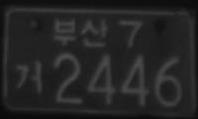2: (54, 51, 82, 103)
4: (121, 53, 149, 107), (87, 53, 116, 104)
6: (153, 55, 182, 106)
7: (119, 19, 144, 46)
거: (15, 59, 41, 95)
부산_O: (55, 17, 108, 47)
